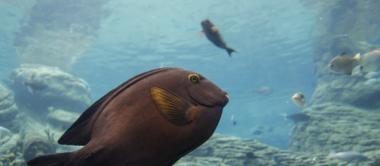Acanthuridae -Surgeonfishes-: (27, 63, 233, 166), (196, 17, 238, 59)
